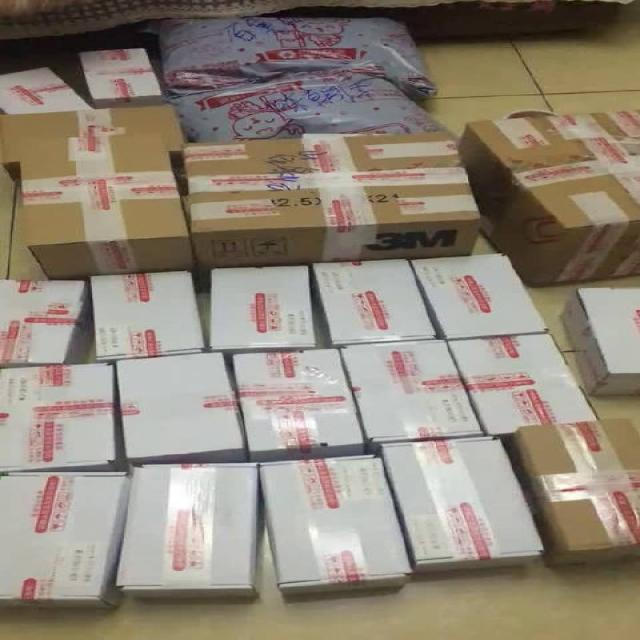box: (186, 131, 480, 269), (456, 110, 639, 289), (20, 132, 197, 281), (258, 455, 409, 603), (382, 434, 539, 576), (119, 465, 265, 609), (503, 419, 639, 570), (0, 472, 128, 613), (227, 349, 364, 463), (448, 332, 598, 435), (407, 231, 549, 339), (338, 339, 486, 442), (115, 351, 247, 465), (1, 105, 184, 182), (311, 259, 444, 347), (91, 272, 207, 360), (207, 265, 316, 348), (557, 287, 639, 396), (0, 281, 96, 369), (74, 48, 165, 109), (0, 169, 48, 281), (0, 66, 89, 113)
